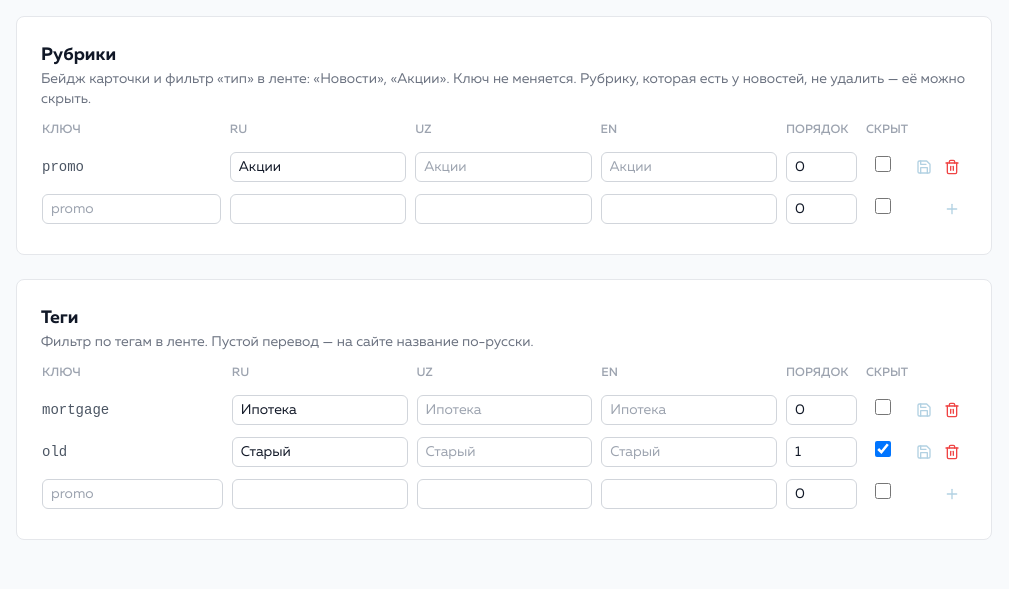
Test: DictionariesPanel › удалить используемый тег нельзя — сообщение сервиса
The image size is (1009, 589).
Expected: the text "mortgage" is shown, [42, 402, 109, 418]
What coordinates should you click on to do the following:
click the button named "Удалить" in the row of "mortgage"
I would click on:
 (952, 410)
Its box is [938, 396, 966, 424].
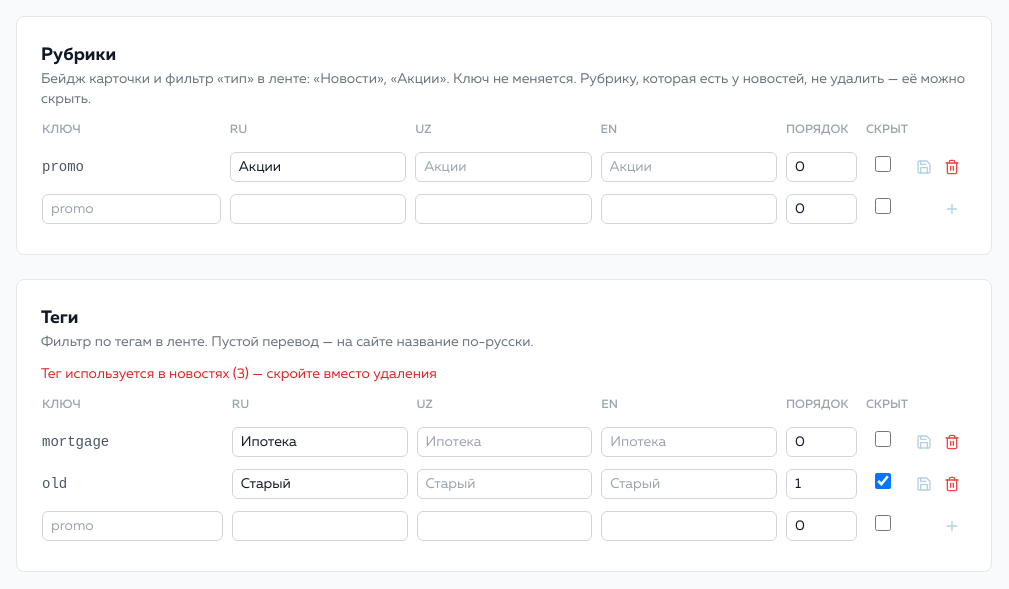
Expected: the message shows "скройте вместо удаления", [41, 367, 437, 381]
